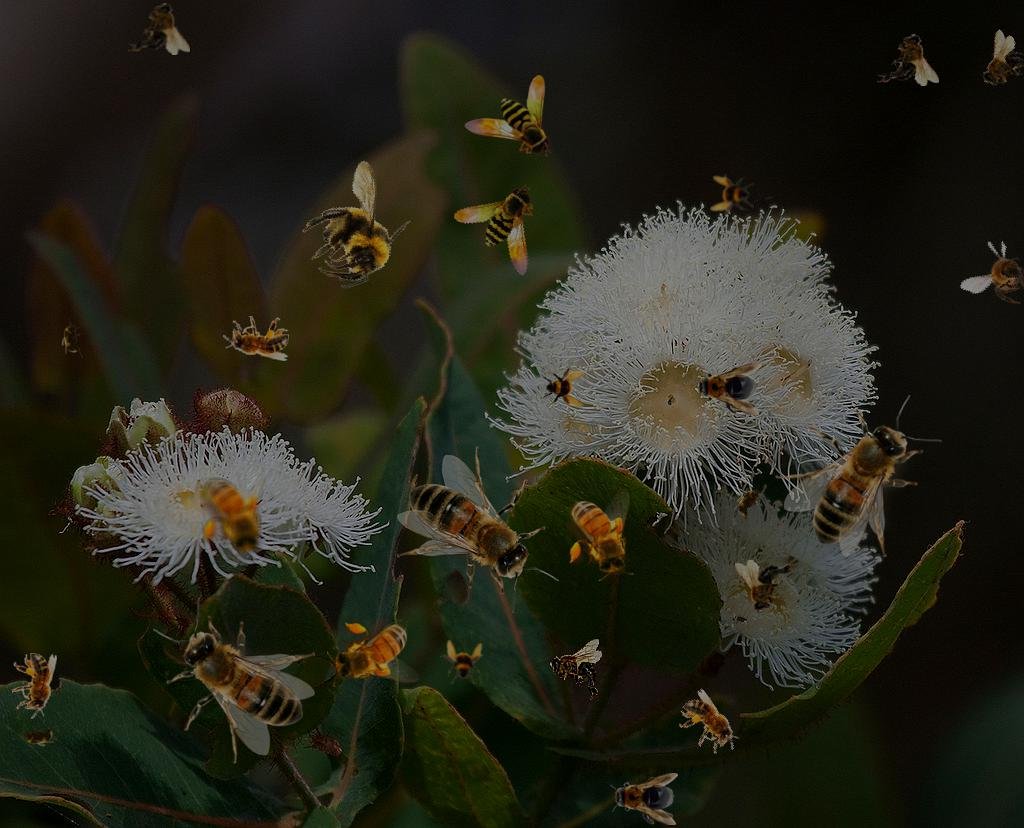Bee: (397, 446, 559, 613), (775, 395, 942, 557), (153, 597, 315, 764), (285, 152, 426, 297), (450, 182, 554, 290), (464, 75, 552, 157), (566, 488, 634, 581), (200, 466, 268, 559), (327, 619, 420, 687), (670, 686, 750, 765), (959, 231, 1024, 317), (965, 26, 1024, 108), (693, 363, 761, 415), (610, 773, 678, 825), (735, 560, 797, 613), (549, 639, 602, 701), (877, 33, 939, 86), (128, 2, 190, 55), (223, 316, 289, 361), (12, 653, 57, 719), (727, 479, 771, 525), (440, 640, 484, 684), (710, 174, 754, 218), (541, 364, 585, 408), (61, 318, 83, 358), (18, 725, 58, 747)
